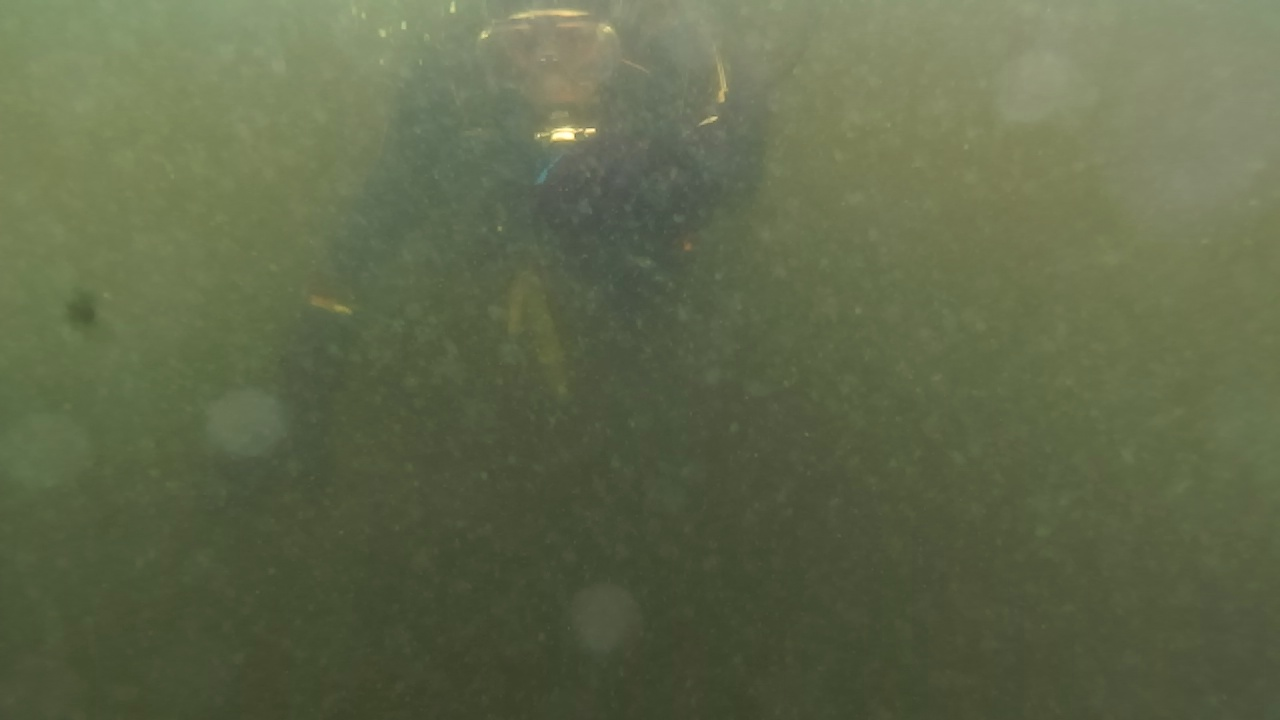Diver: (244, 2, 778, 526)
Hand: (256, 266, 374, 522), (502, 124, 692, 256)
Head: (466, 8, 644, 138)
